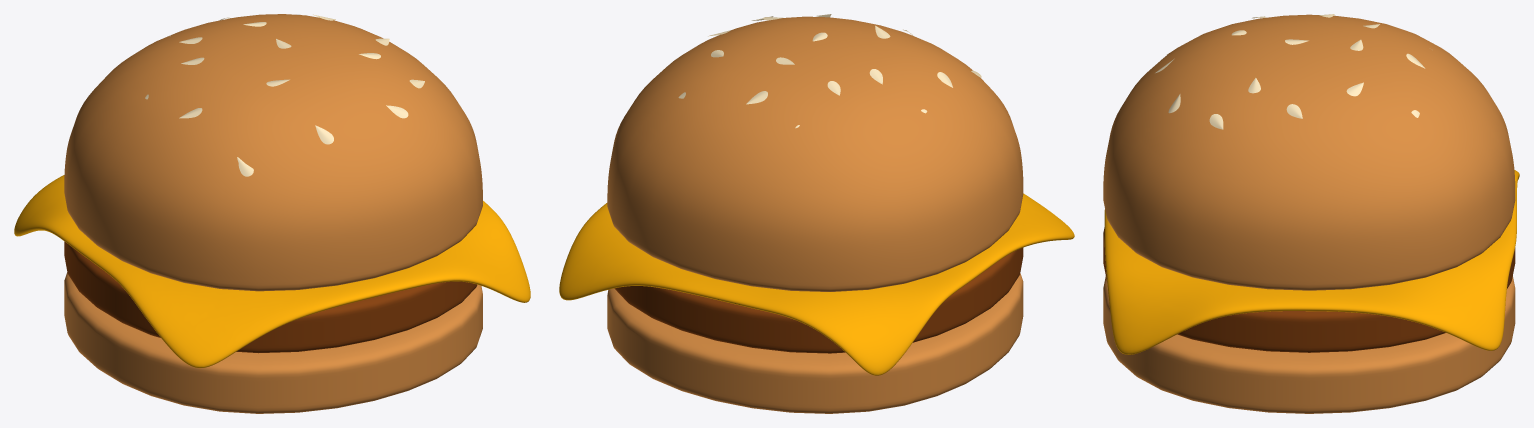
Rendered from burger steak cheese.glb.
The picture shows the model from 3 angles, left to right: view 1: azimuth 30°, elevation 25°; view 2: azimuth 150°, elevation 25°; view 3: azimuth 270°, elevation 25°; orthographic projection.
Visible parts, largest first — view 1: burger steak lettuce cheese.002; view 2: burger steak lettuce cheese.002; view 3: burger steak lettuce cheese.002.
Part boxes in pixels (x1=…): burger steak lettuce cheese.002: x1=14, y1=14, x2=530, y2=413; burger steak lettuce cheese.002: x1=559, y1=14, x2=1074, y2=413; burger steak lettuce cheese.002: x1=1103, y1=14, x2=1519, y2=413.
Bounding box in the file's own units: 1.2 × 0.9356 × 1.19.
